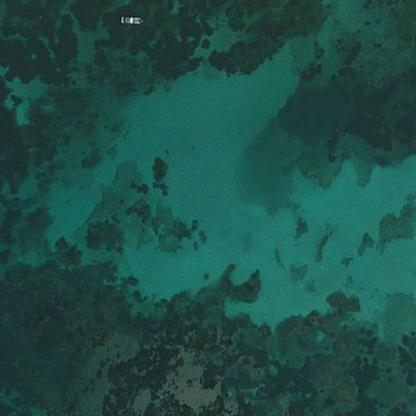ship: (118, 0, 143, 9)
